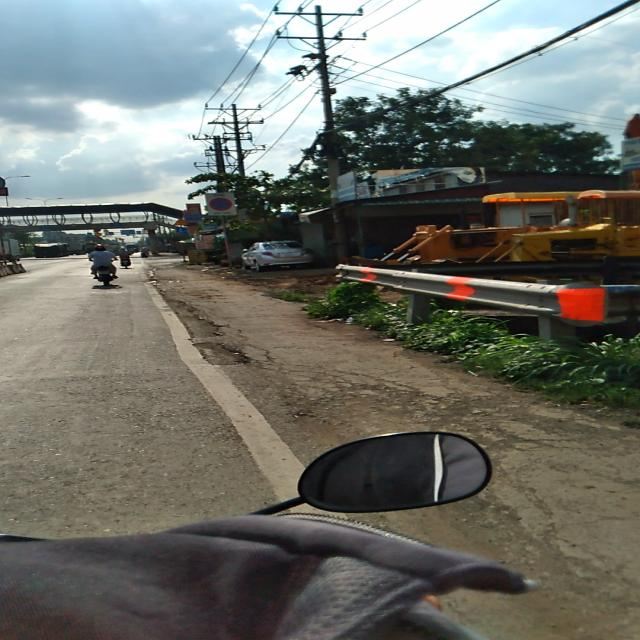Cam dung va do: (210, 197, 232, 211)
